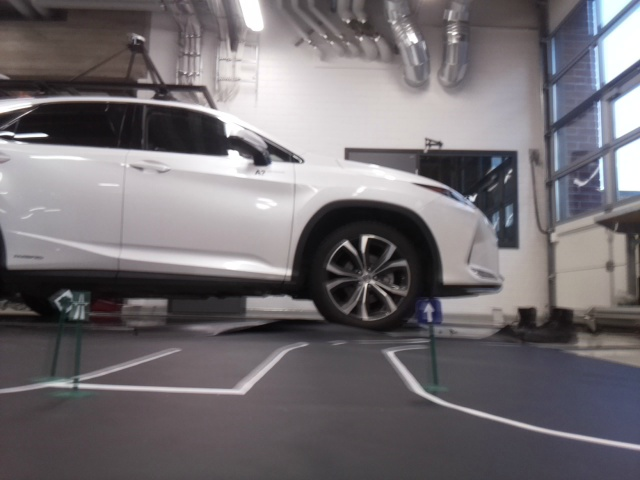OneWay: (418, 300, 442, 325)
